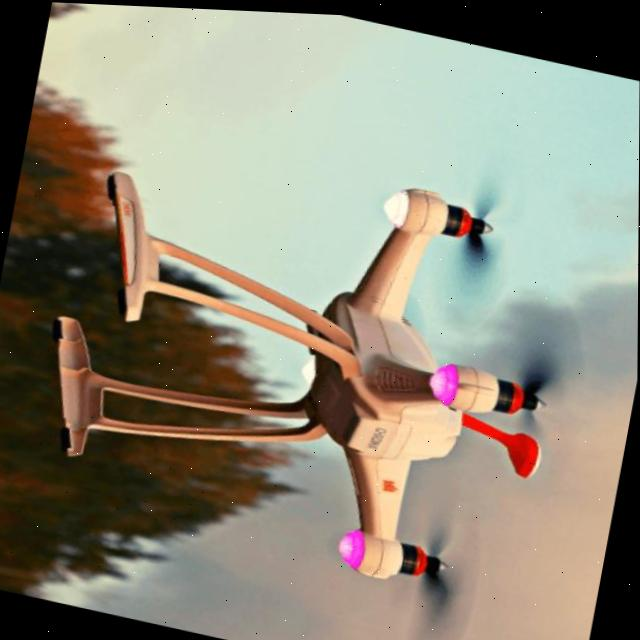drones: (0, 56, 623, 640)
